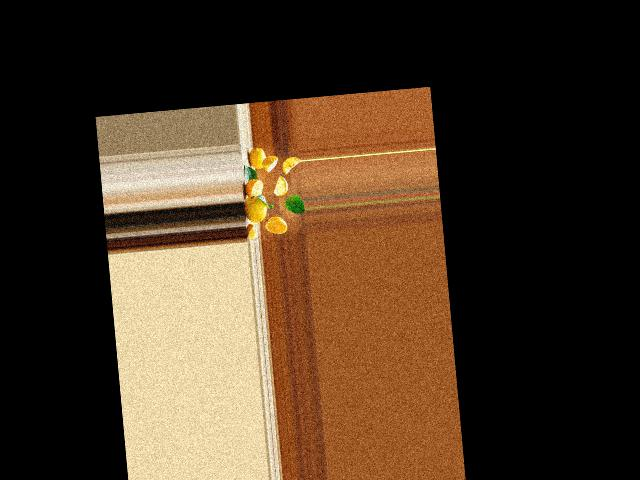lemon: (247, 144, 269, 170)
